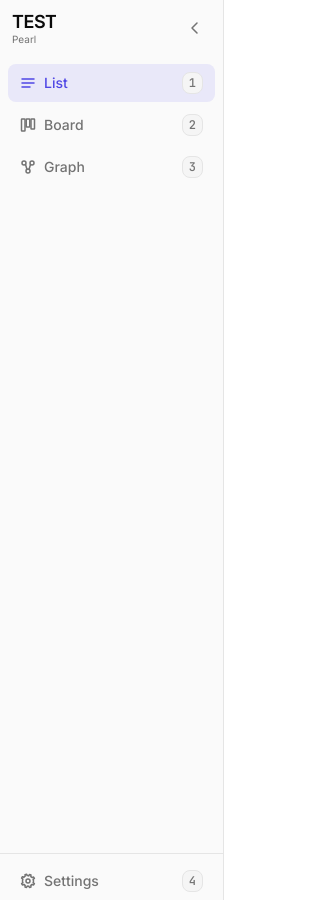
Test: Sidebar › collapses when the toggle button is clicked
This screenshot has width=320, height=900.
Click the button named "collapse sidebar".
click(195, 28)  # box x1=179 y1=12 x2=211 y2=44
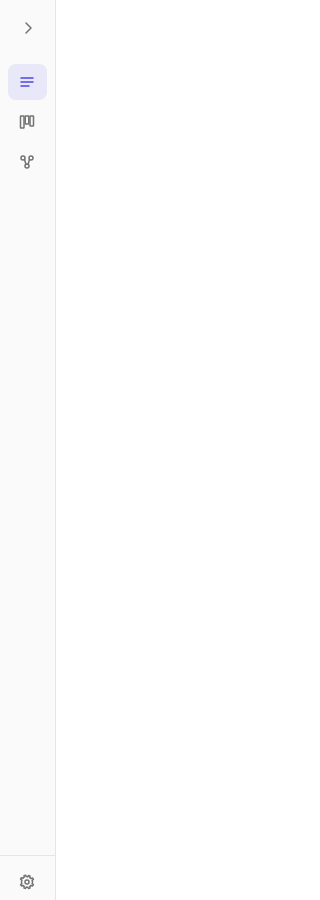
Check: the button named "expand sidebar" is shown, box x1=12 y1=12 x2=44 y2=44
